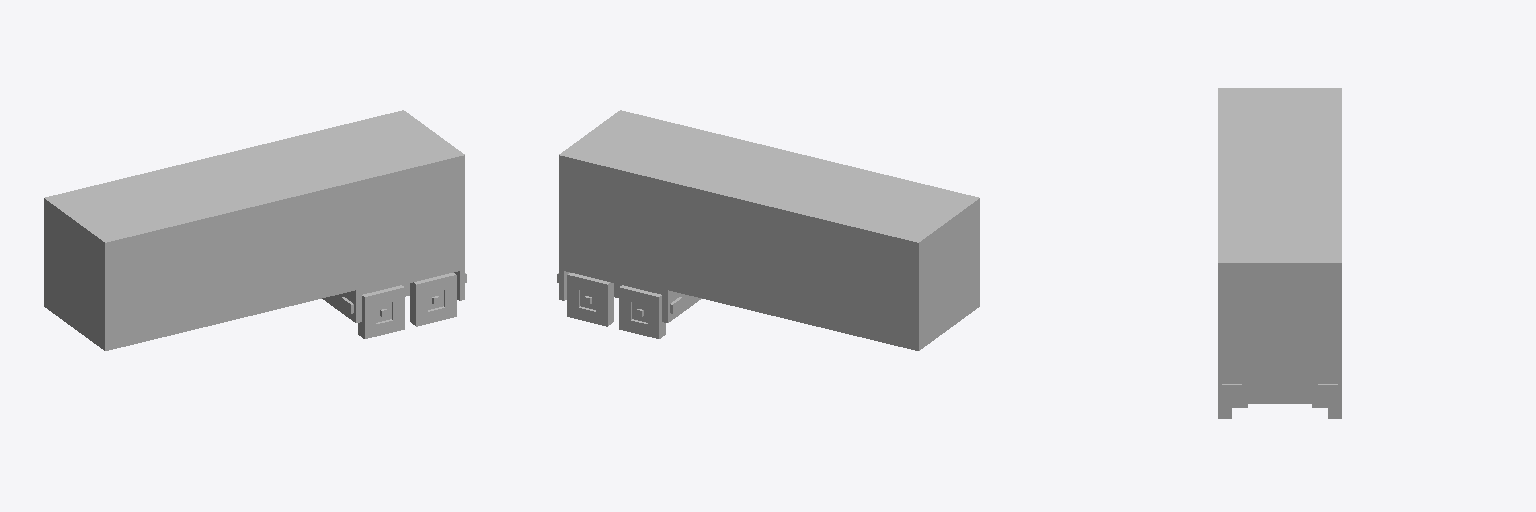
The model's file is alll cars3-125.obj.
3 renders of one model, left to right at view 1: azimuth 30°, elevation 25°; view 2: azimuth 150°, elevation 25°; view 3: azimuth 270°, elevation 25°, orthographic.
Parts seen in each view (by area): view 1: object 1; view 2: object 1; view 3: object 1.
Part boxes in pixels (x1,y1,x2,y2): object 1: (44,110,466,350); object 1: (557,110,979,350); object 1: (1218,88,1341,418).
Bounding box in the file's own units: 12.6 × 5.3 × 3.7.